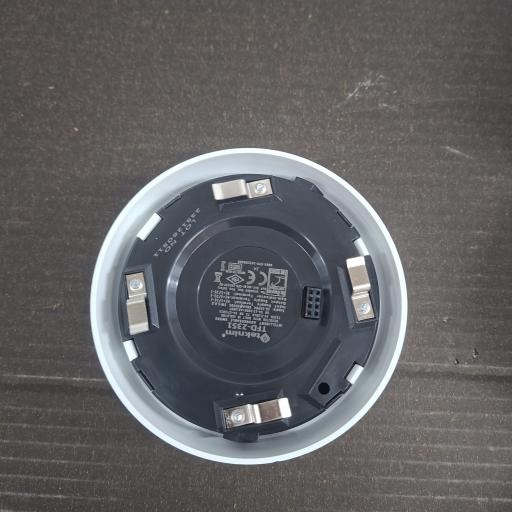yaysiz: (210, 388, 294, 442), (339, 254, 381, 331), (121, 263, 162, 337), (209, 177, 274, 202)
